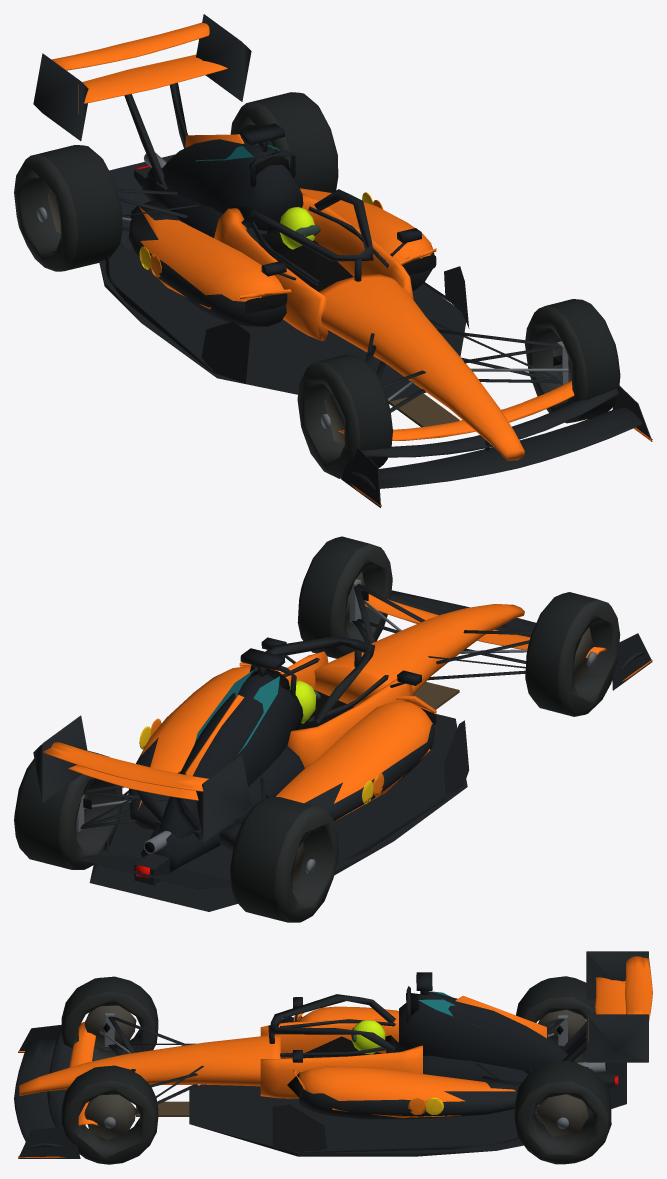
The model's file is mcl40-lod3.glb.
The picture shows the model from 3 angles, top to bottom: view 1: azimuth 30°, elevation 25°; view 2: azimuth 150°, elevation 25°; view 3: azimuth 270°, elevation 25°; orthographic projection. The views are drawn at different scales.
Parts seen in each view (by area): view 1: L3_Chassis, L3_Wheel_RL, L3_Wheel_FL, L3_Wheel_FR, L3_Wheel_RR; view 2: L3_Chassis, L3_Wheel_RL, L3_Wheel_FL, L3_Wheel_RR, L3_Wheel_FR; view 3: L3_Chassis, L3_Wheel_RR, L3_Wheel_FR, L3_Wheel_FL, L3_Wheel_RL.
Part boxes in pixels (left/top/right/bottom): L3_Chassis: left=33, top=14, right=652, bottom=507; L3_Wheel_RL: left=14, top=145, right=122, bottom=271; L3_Wheel_FL: left=297, top=354, right=392, bottom=478; L3_Wheel_FR: left=525, top=299, right=620, bottom=423; L3_Wheel_RR: left=230, top=92, right=338, bottom=192; L3_Chassis: left=33, top=572, right=652, bottom=911; L3_Wheel_RL: left=230, top=796, right=338, bottom=922; L3_Wheel_FL: left=525, top=592, right=620, bottom=716; L3_Wheel_RR: left=14, top=750, right=122, bottom=869; L3_Wheel_FR: left=297, top=536, right=392, bottom=658; L3_Chassis: left=14, top=951, right=652, bottom=1158; L3_Wheel_RR: left=514, top=1060, right=611, bottom=1164; L3_Wheel_FR: left=61, top=1065, right=158, bottom=1164; L3_Wheel_FL: left=61, top=976, right=158, bottom=1061; L3_Wheel_RL: left=516, top=976, right=595, bottom=1062.
Size of the model in its own units: 1.9 by 1.13 by 4.8.
